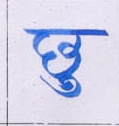u_matra: (39, 75, 86, 99)
